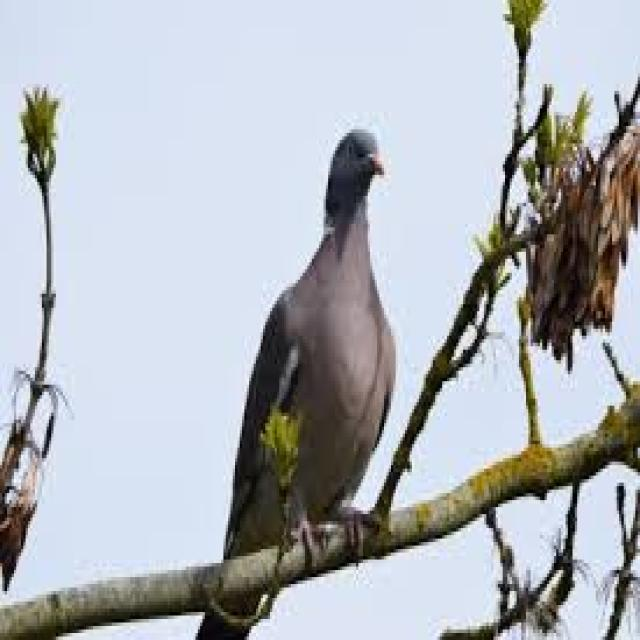pigeon: (214, 107, 409, 624)
